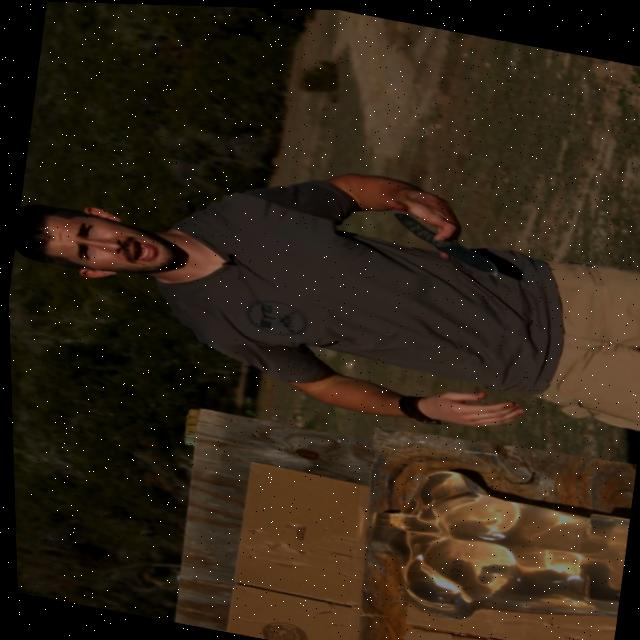knife: (379, 206, 506, 274)
